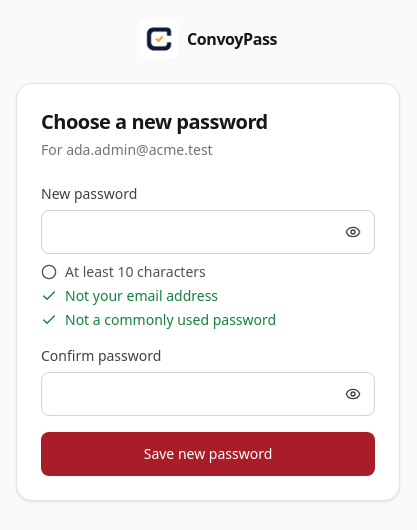
Test: /auth/action resetPassword › refuses a password equal to the account email
Expected: the text "For ada.admin@acme.test" is shown, [41,140,213,159]
In the password field labelled "New password": (208, 232) [41,210,375,254], type "ada.admin@acme.test"
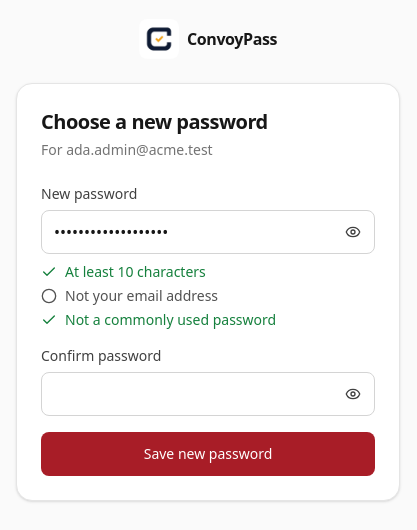
In the password field labelled "Confirm password": (208, 394) [41,372,375,416], type "ada.admin@acme.test"
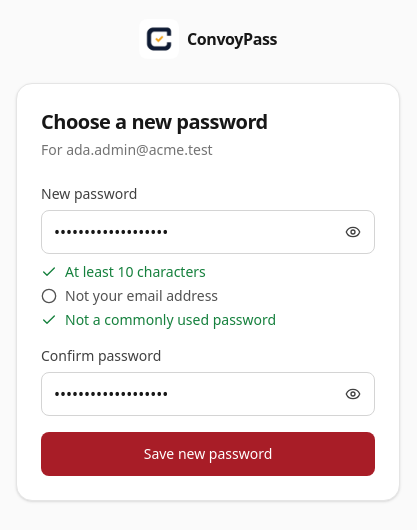
Click the button "Save new password": click(208, 454) [41,432,375,476]
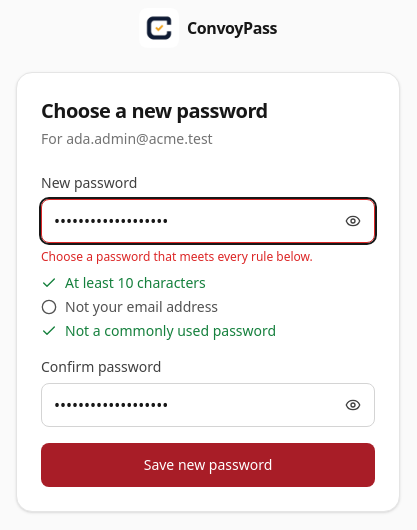
Now the text "Choose a password that meets every rule below." is shown, box [41,248,313,265]
